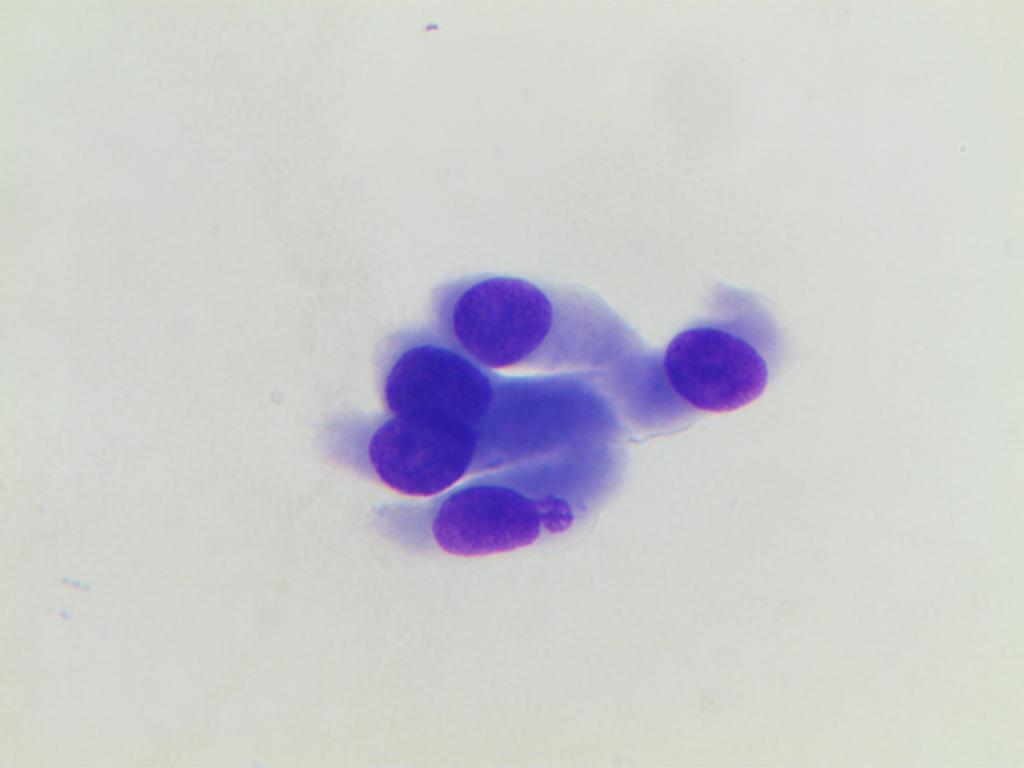epithelial: (424, 452, 627, 563), (376, 344, 613, 435), (450, 262, 642, 373), (659, 276, 789, 414), (364, 423, 480, 496)
